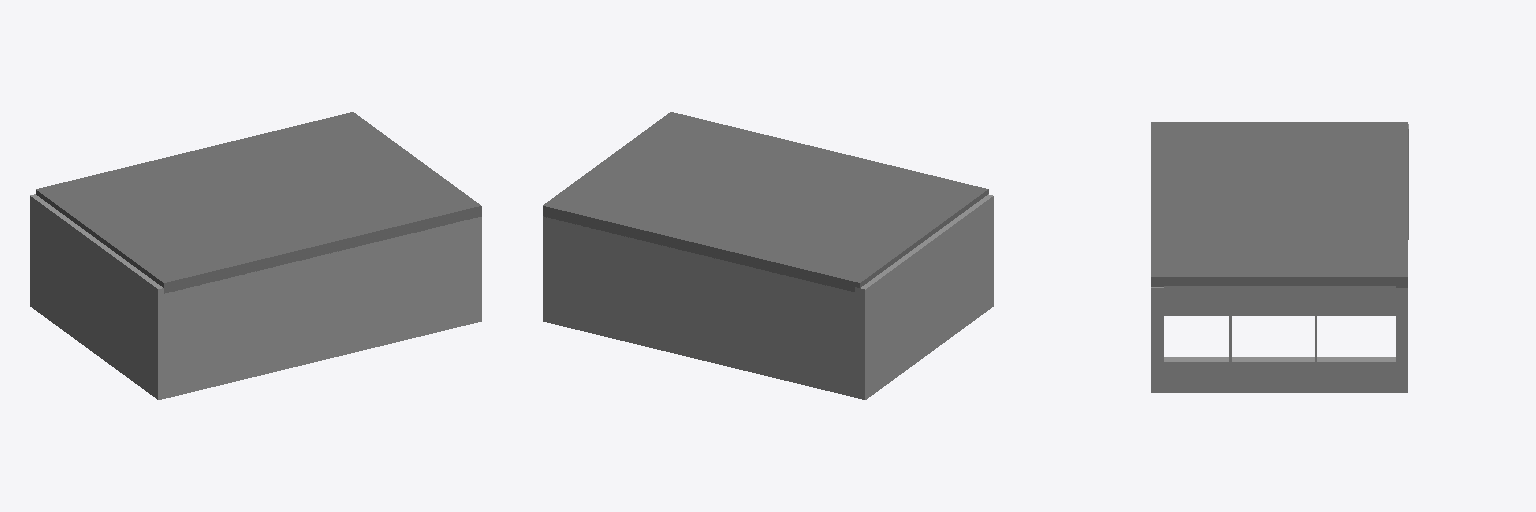
Rendered from room3.obj.
3 renders of one model, left to right at view 1: azimuth 30°, elevation 25°; view 2: azimuth 150°, elevation 25°; view 3: azimuth 270°, elevation 25°, orthographic.
Visible parts, largest first — view 1: room_wall4_wall4_top_Cube.004_Cube.020; view 2: room_wall4_wall4_top_Cube.004_Cube.020; view 3: room_wall4_wall4_top_Cube.004_Cube.020.
Part boxes in pixels (x1,y1,x2,y2): room_wall4_wall4_top_Cube.004_Cube.020: (30,112,481,399); room_wall4_wall4_top_Cube.004_Cube.020: (543,112,993,399); room_wall4_wall4_top_Cube.004_Cube.020: (1151,122,1408,392).
Bounding box in the file's own units: 3.05 × 1.05 × 2.1.